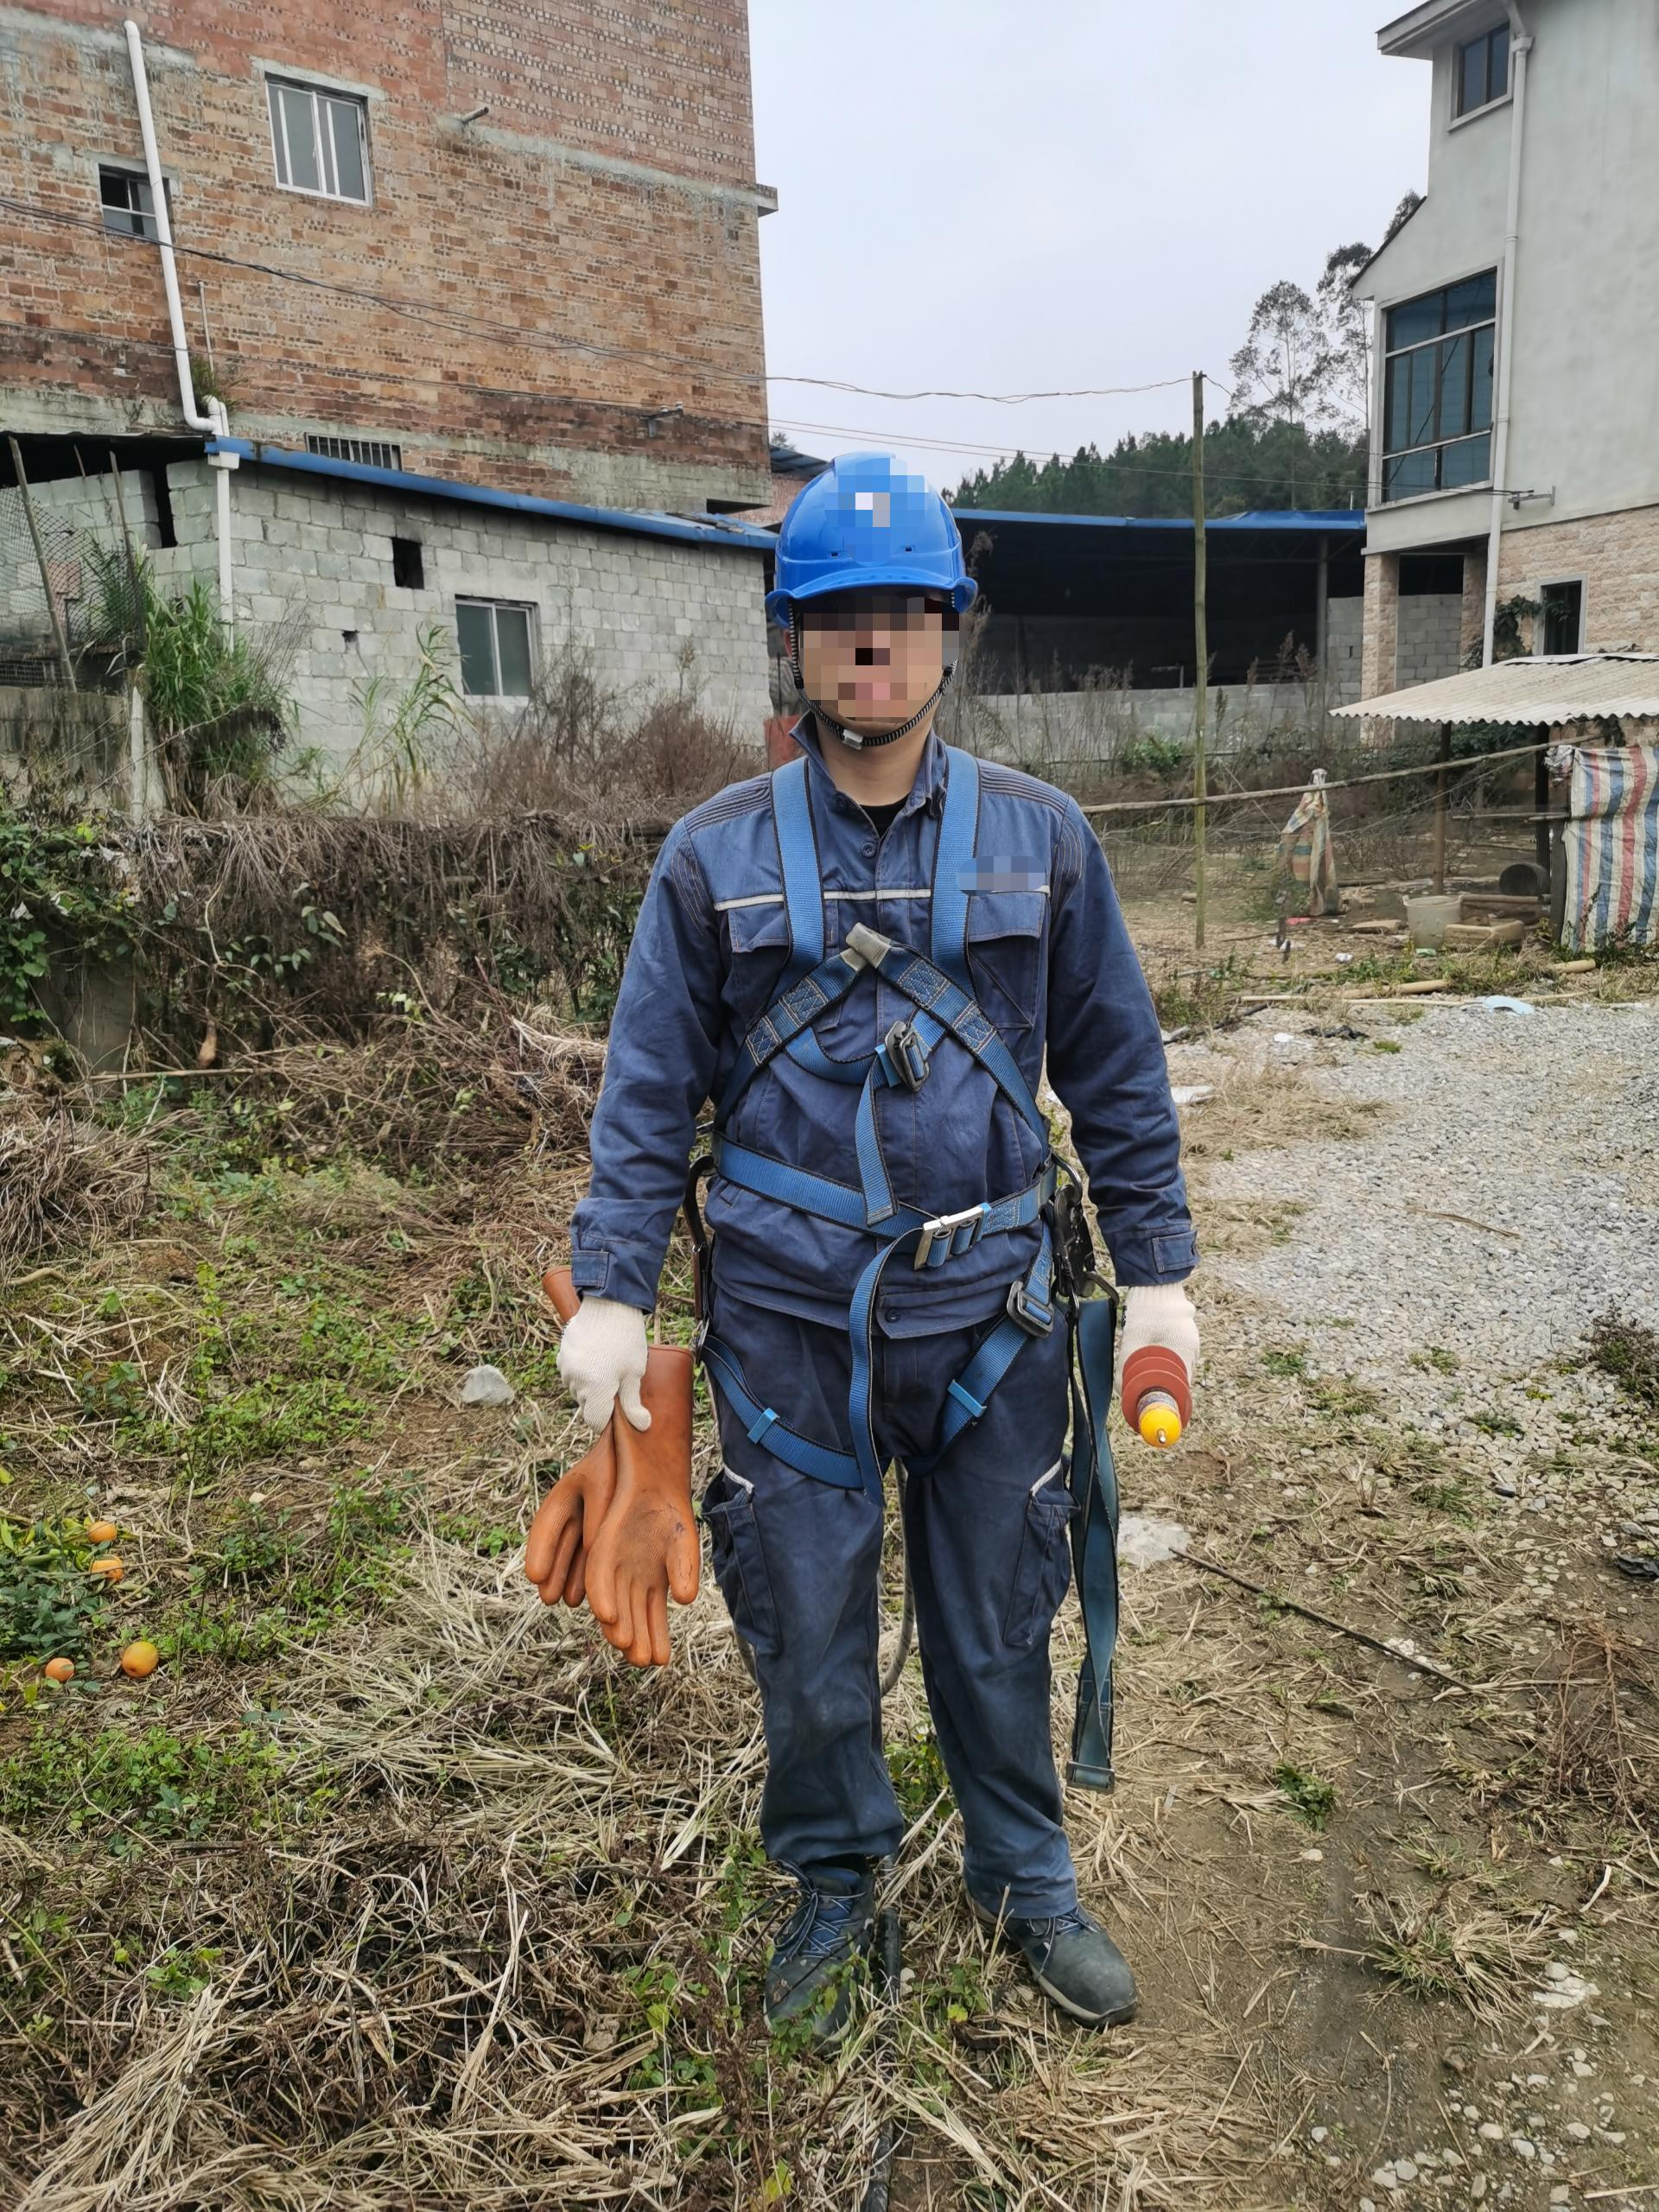halt: (765, 453, 990, 773)
